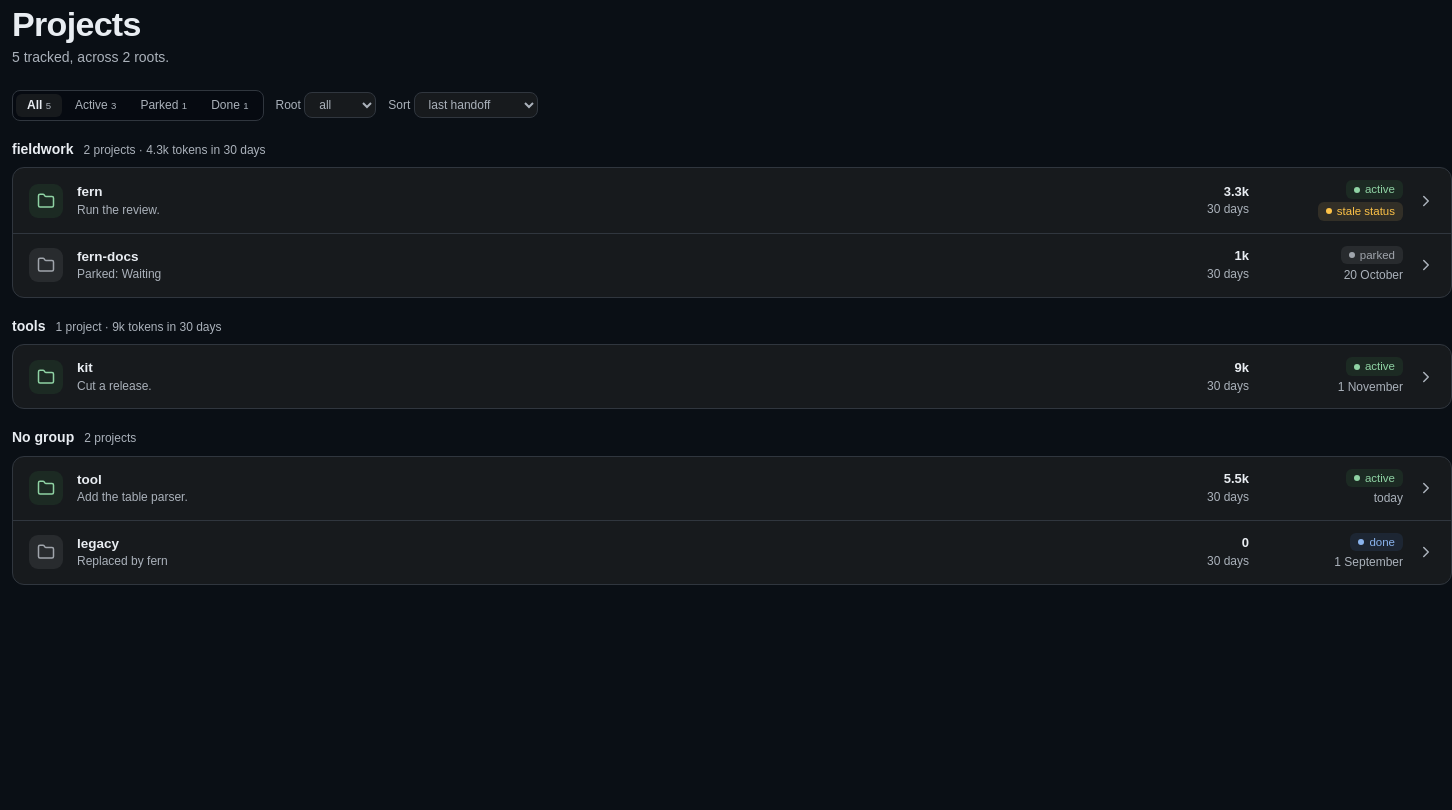
Test: the state filter counts and narrows, and the counts follow the root
The image size is (1452, 810).
Step 1. Click the button "Parked 1" → point(164, 105), box [129, 94, 198, 117]
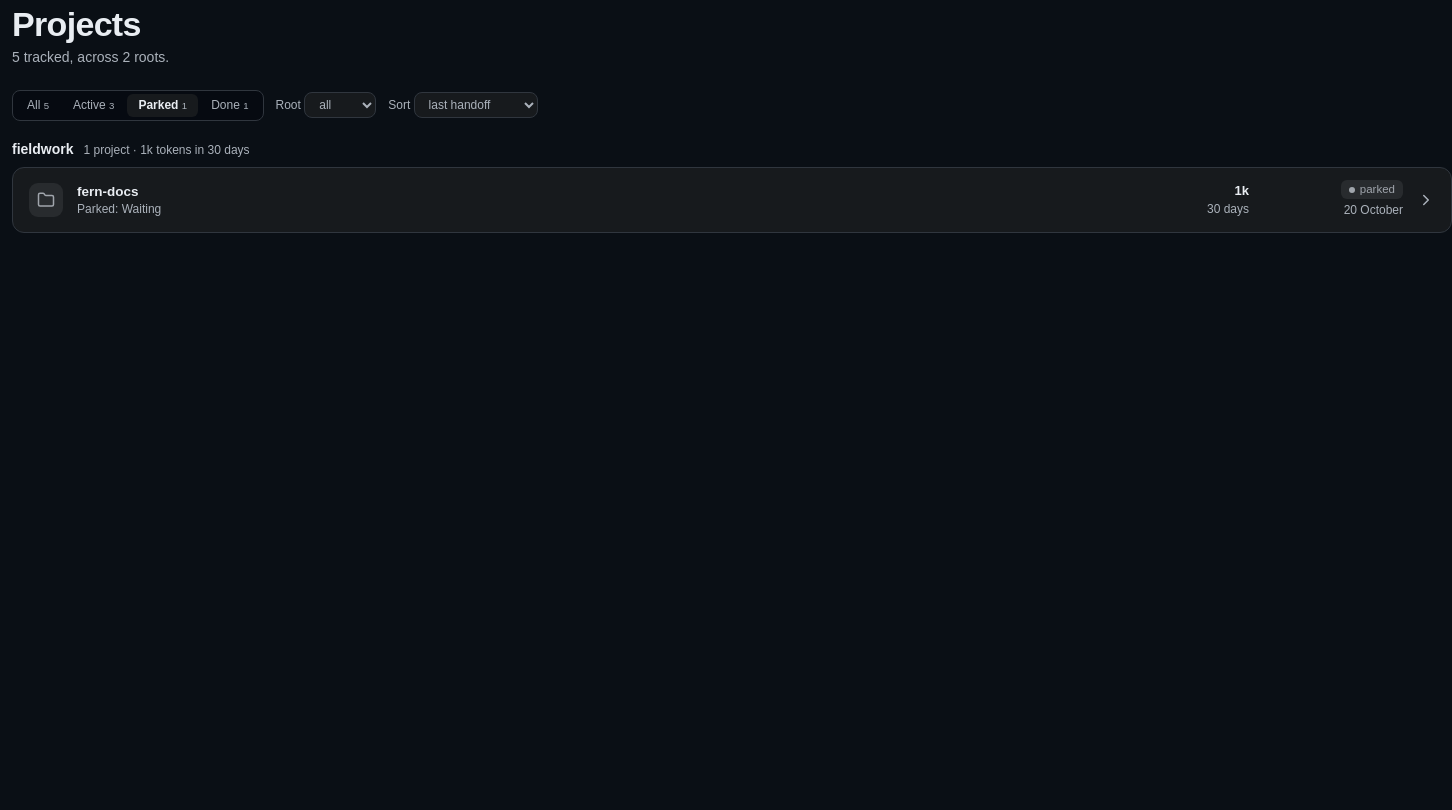
Expected: the text "1 project · 1k tokens in 30 days" is shown, [84, 142, 250, 160]
Step 2. Click the button "All 5" → point(38, 105), box [16, 94, 60, 117]
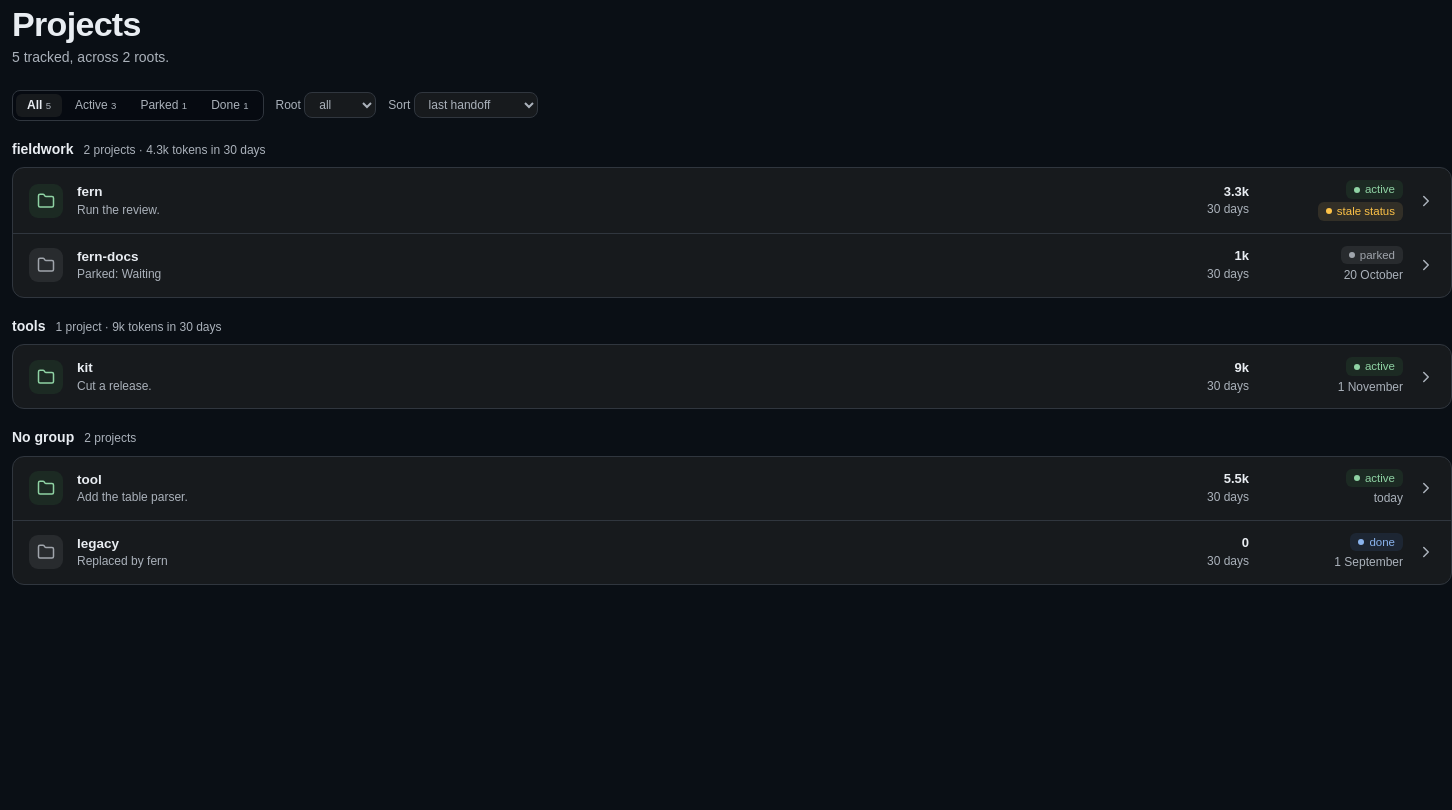
Step 3. Select "beta" in the dropdown labelled "Root" → point(340, 105), box [304, 92, 376, 118]
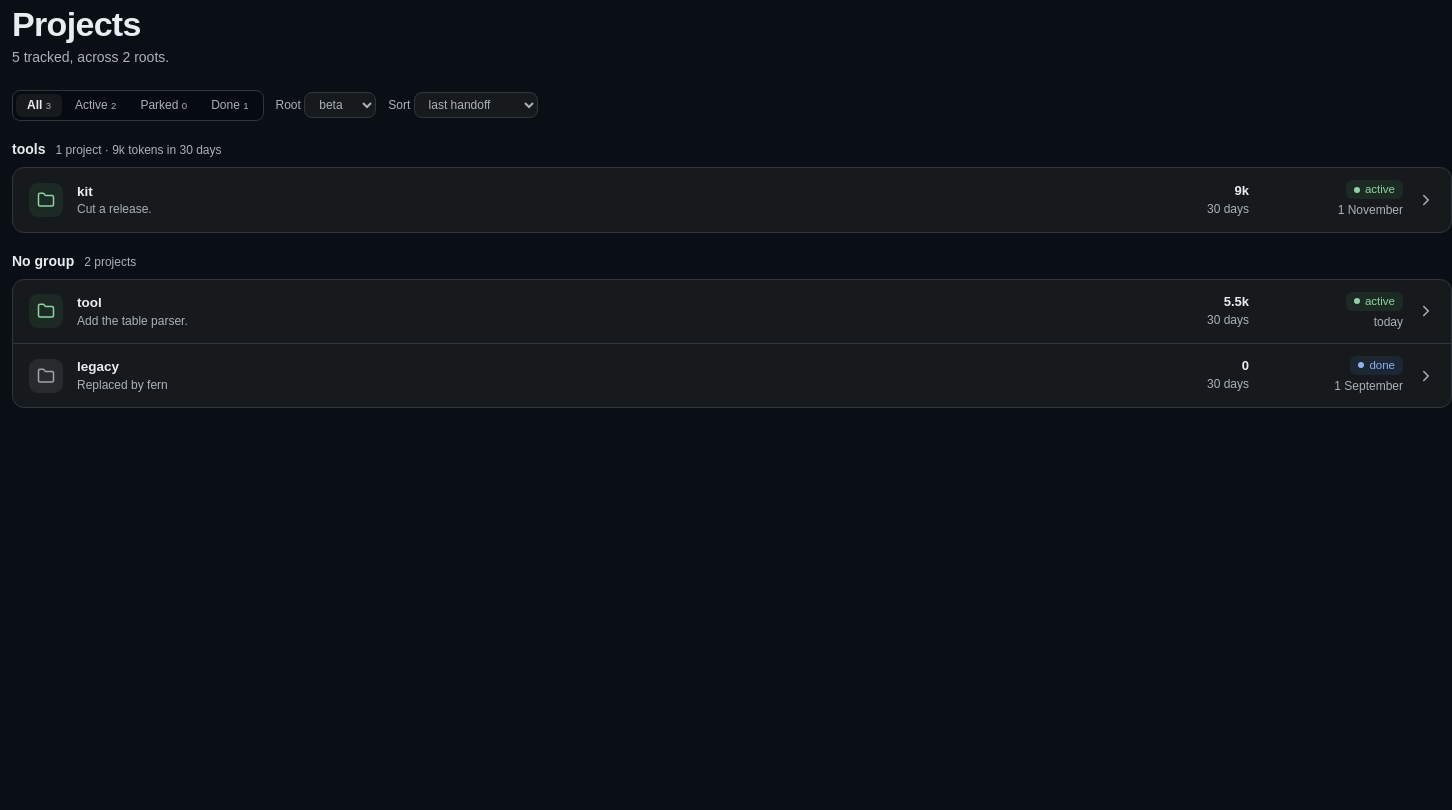
Expected: the buttons read "All 3", "Active 2", "Parked 0", "Done 1", in this order
Step 4. Click the button "Parked 0" → point(164, 105), box [129, 94, 198, 117]
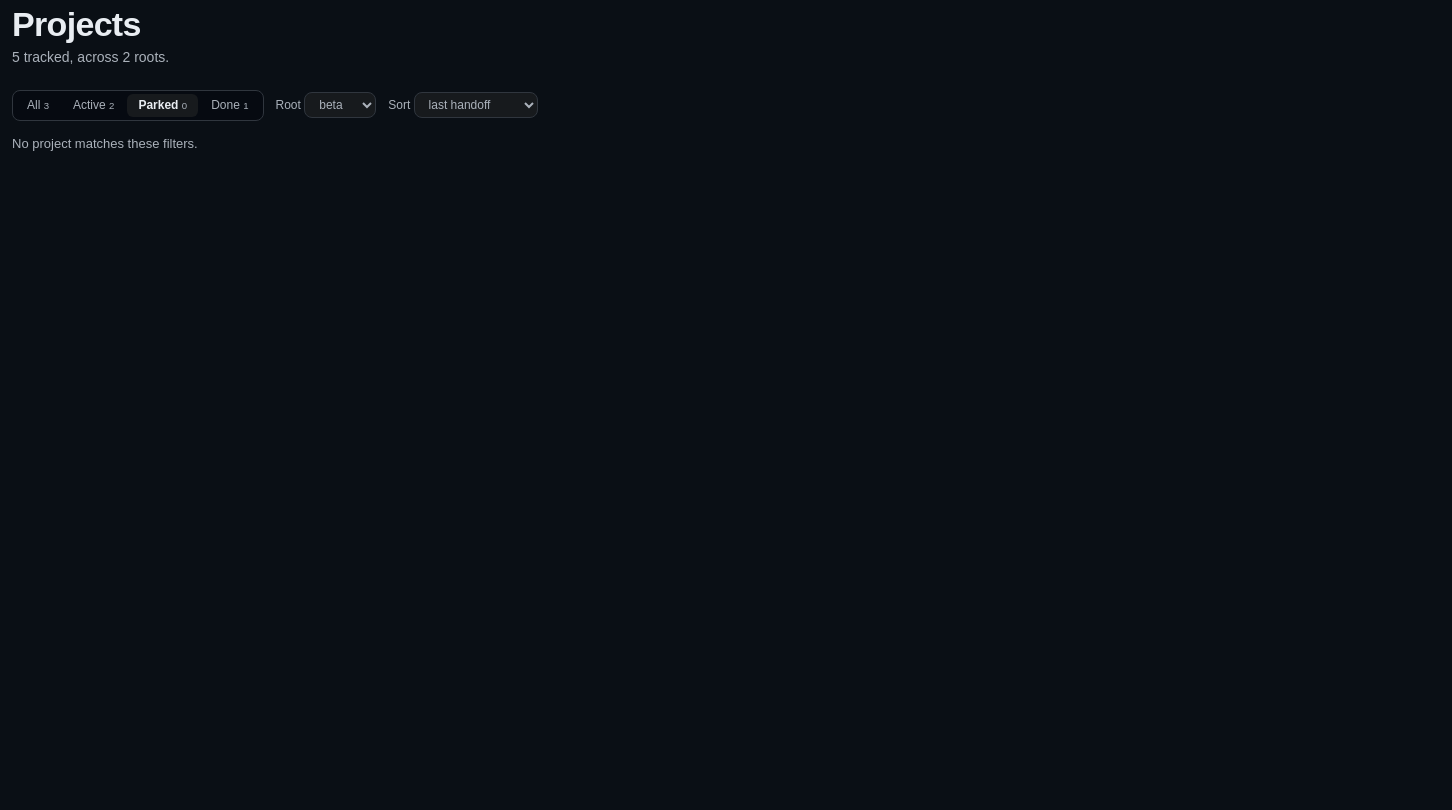
Expected: the text "No project matches these filters." is shown, [12, 136, 198, 151]
